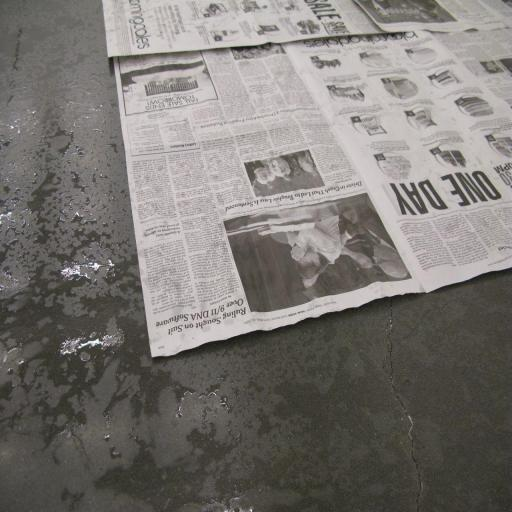paper: (102, 0, 512, 358)
